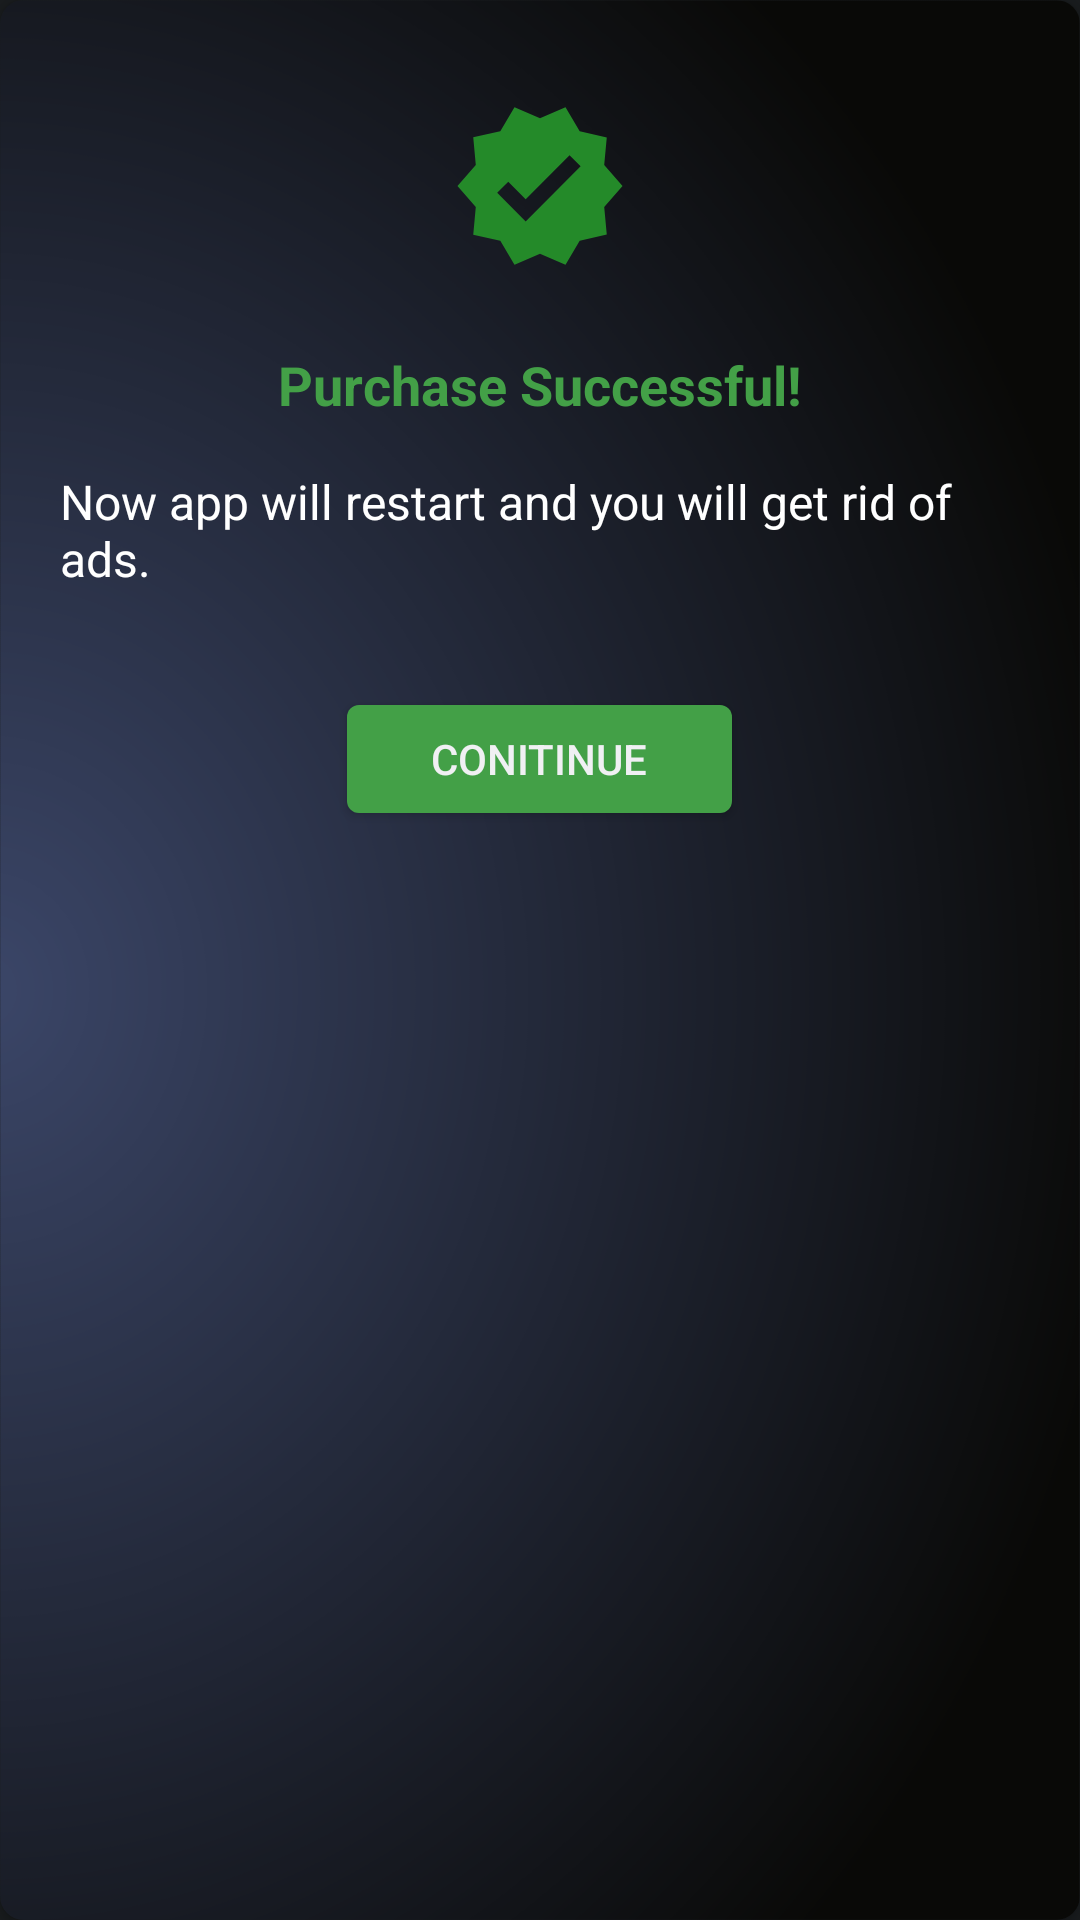

Screen size 1080×1920. Icon name, then its center in pixels as (x=x, y=y):
verified dialogview: (x=540, y=186)
